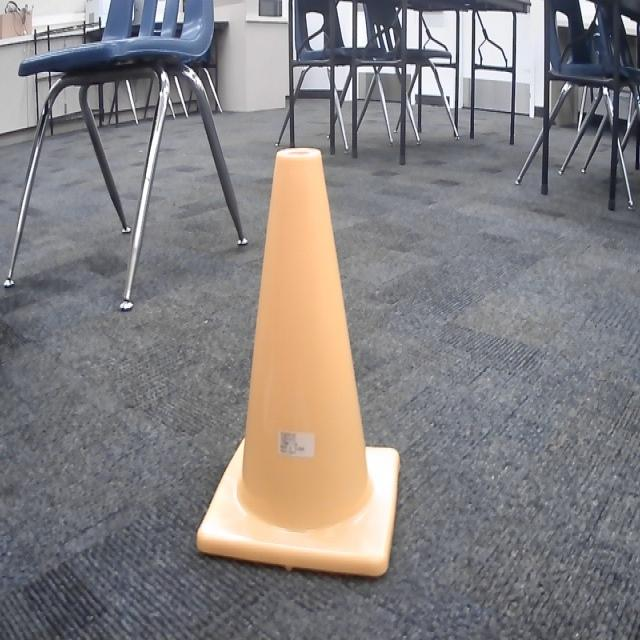cone: (189, 140, 404, 584)
